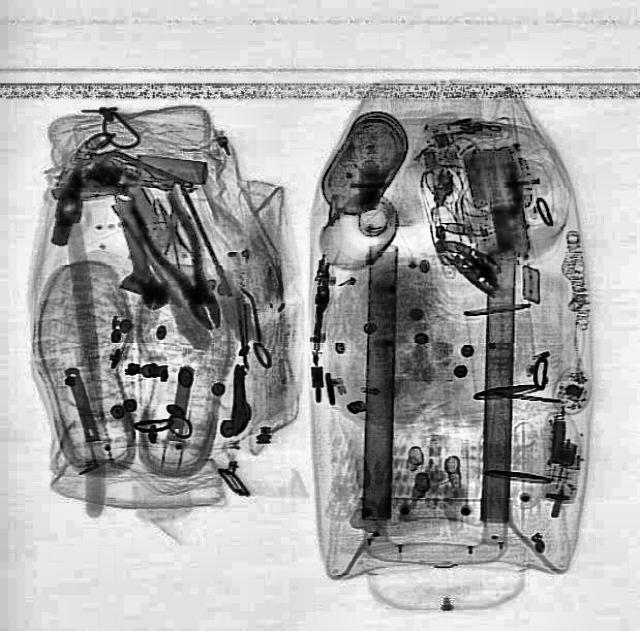Pliers: (124, 180, 236, 338)
Wrench: (89, 180, 169, 318)
